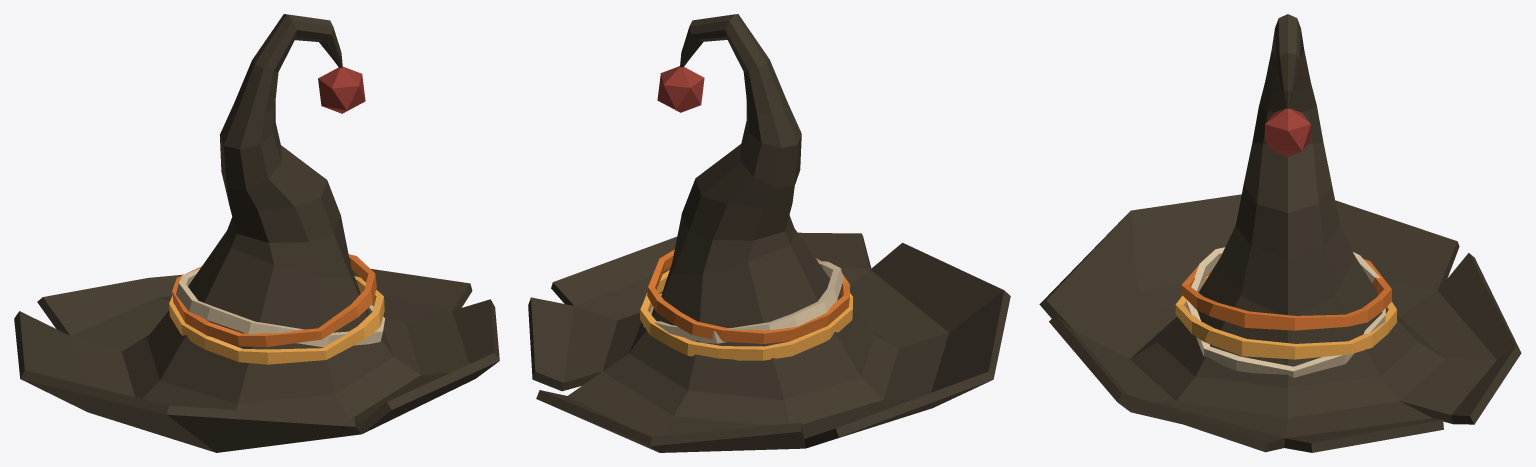
The model's file is WF_LP_HT_Props_Hat.003.fbx.
3 renders of one model, left to right at view 1: azimuth 30°, elevation 25°; view 2: azimuth 150°, elevation 25°; view 3: azimuth 270°, elevation 25°, orthographic. The views are drawn at different scales.
Parts seen in each view (by area): view 1: WF_LP_HT_Props_Hat.003; view 2: WF_LP_HT_Props_Hat.003; view 3: WF_LP_HT_Props_Hat.003.
Part boxes in pixels (left/top/right/bottom): WF_LP_HT_Props_Hat.003: left=14, top=14, right=499, bottom=452; WF_LP_HT_Props_Hat.003: left=528, top=14, right=1010, bottom=452; WF_LP_HT_Props_Hat.003: left=1039, top=14, right=1521, bottom=452.
Bounding box in the file's own units: 0.7145 × 0.5355 × 0.6333.
